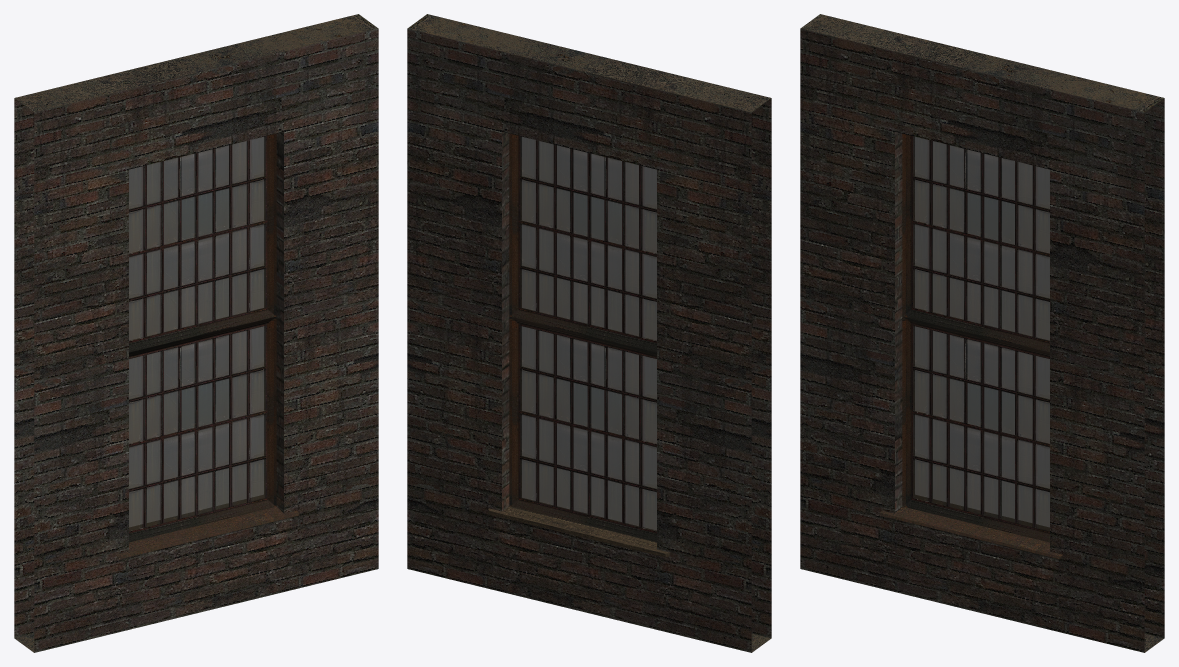
File: wall_hs_1_m_2.glb
The picture shows the model from 3 angles, left to right: view 1: azimuth 30°, elevation 25°; view 2: azimuth 150°, elevation 25°; view 3: azimuth 330°, elevation 25°; orthographic projection.
Visible parts, largest first — view 1: wall_hs_1_m_2; view 2: wall_hs_1_m_2; view 3: wall_hs_1_m_2.
Boxes of the visible parts, <box> form: wall_hs_1_m_2: <box>14,14,378,652</box>; wall_hs_1_m_2: <box>407,14,771,652</box>; wall_hs_1_m_2: <box>800,14,1164,652</box>.
Size of the model in its own units: 4 by 6 by 0.505.
6 materials, 6 textured.
